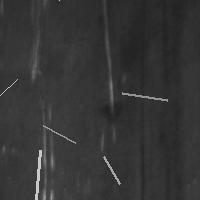scratches: (155, 2, 186, 197), (98, 2, 117, 147), (39, 101, 58, 200), (137, 70, 149, 200), (0, 74, 22, 131), (38, 120, 80, 147), (28, 21, 45, 86), (99, 152, 125, 189), (28, 145, 45, 200), (117, 88, 172, 105), (52, 0, 64, 5)
